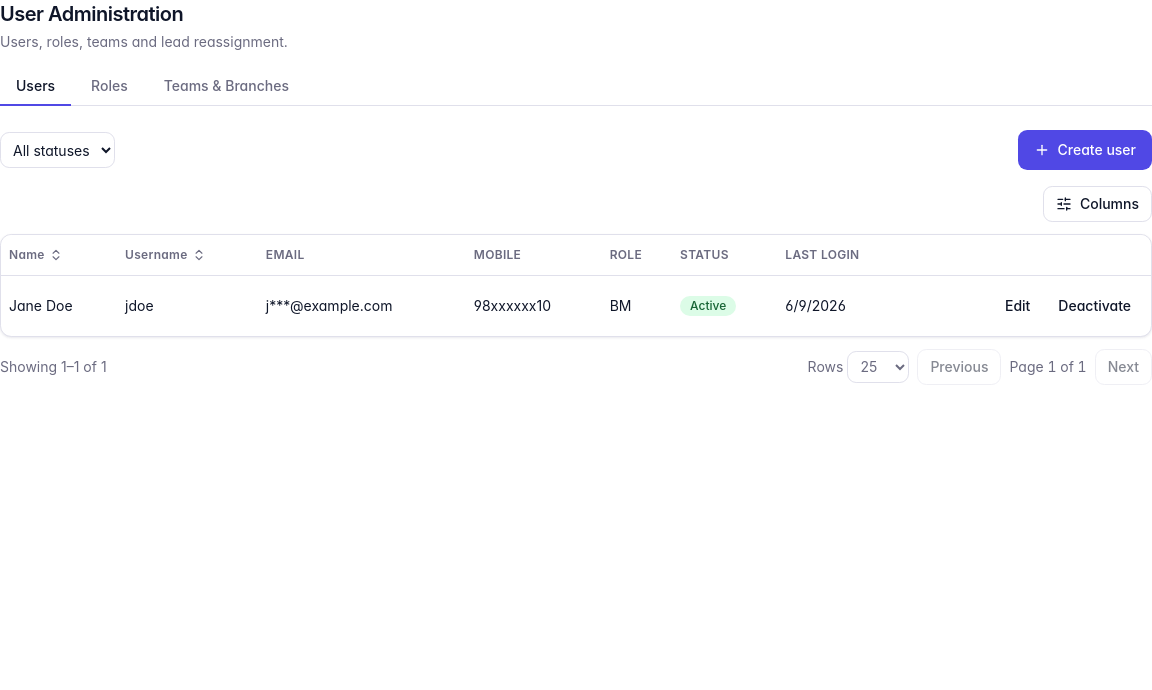
Scenario: UserAdminPage › blocks create submit and shows inline validation errors for empty required fields
Click the button "Create user" at [1085, 150], box [1018,130,1151,170]
(page scrolled)
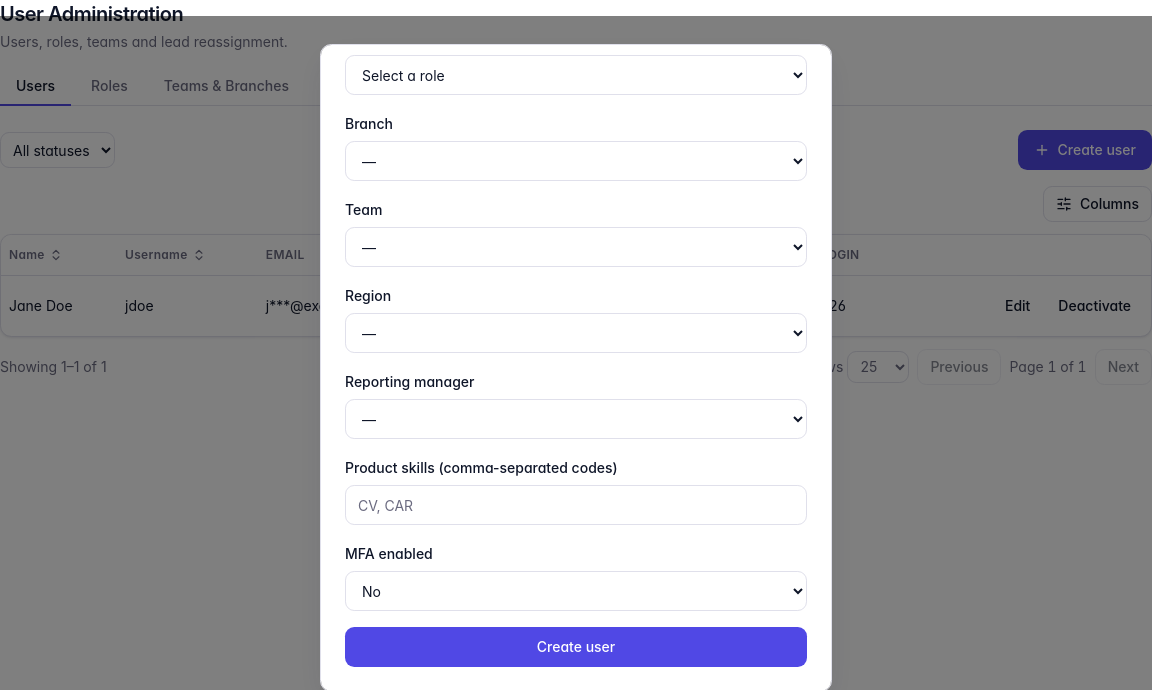
Click the button "Create user" at [576, 647], box [345,627,807,667]
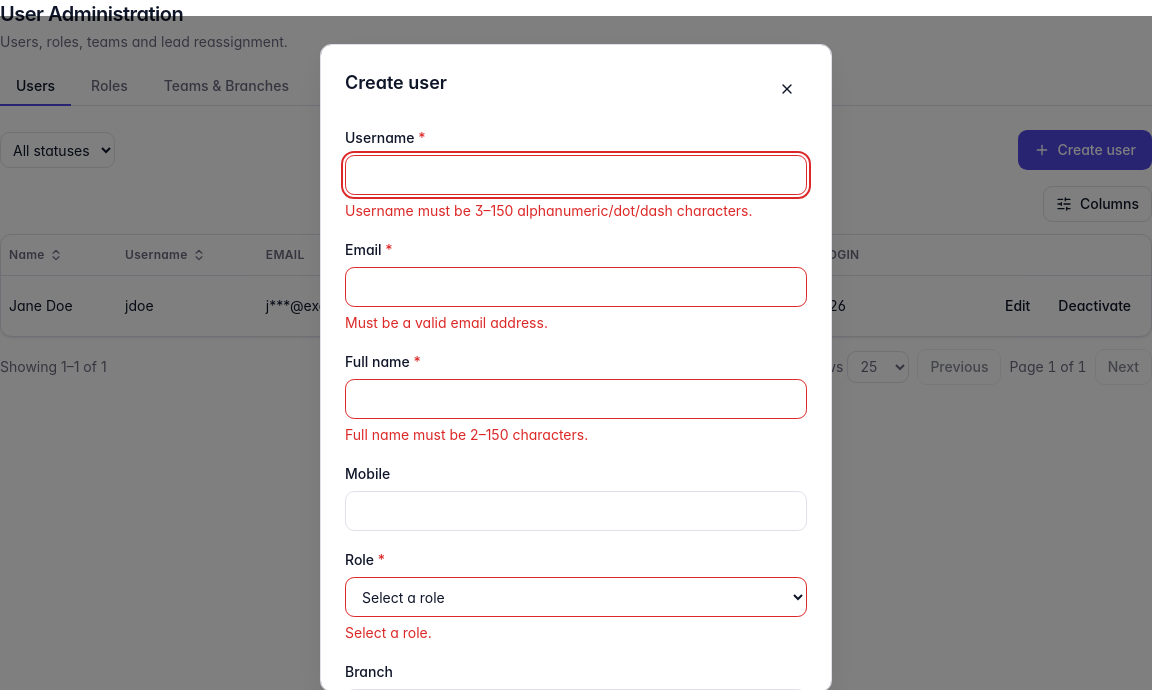
expect the message "Username must be 3–150 alphanumeric/dot/dash characters." is shown: met, box [345,201,807,221]
